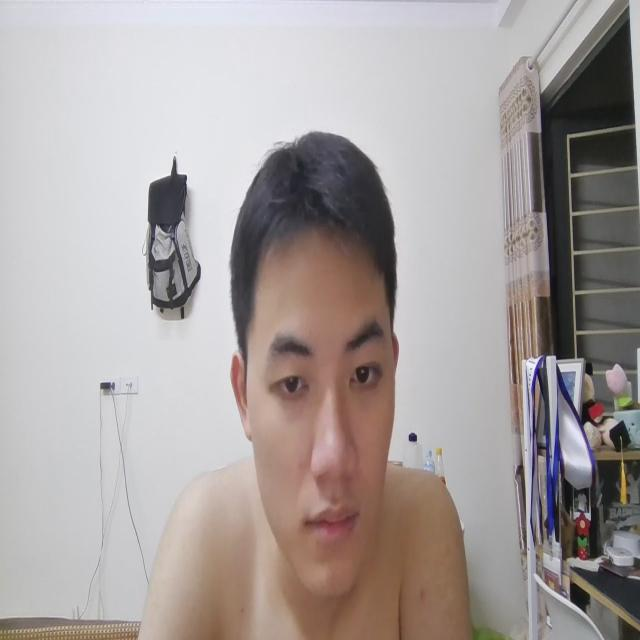student: (144, 129, 464, 640)
